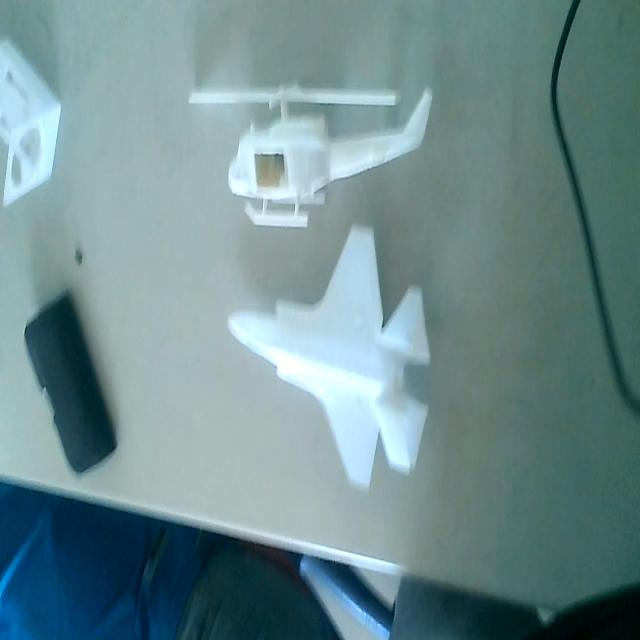Helicopter: (189, 75, 434, 226)
Jet: (224, 226, 442, 498)
